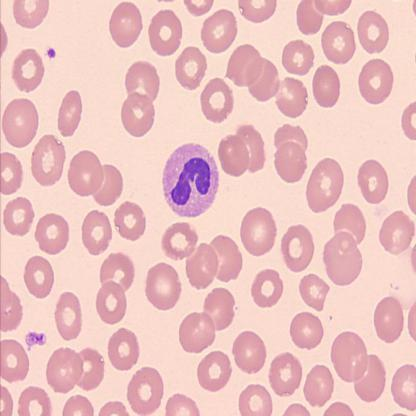Band Neutrophil: (160, 139, 220, 221)
